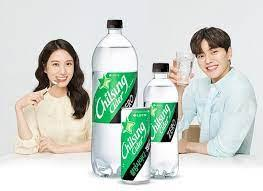chilsungcider_zero: (118, 107, 153, 187)
